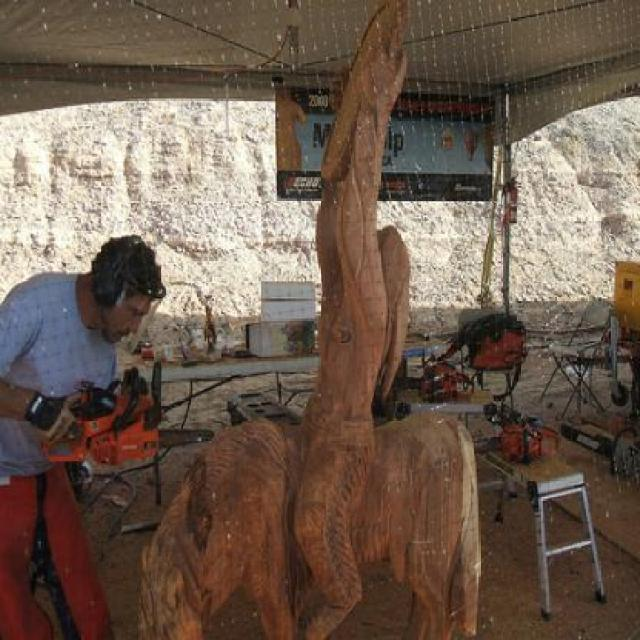Chainsaw: (41, 363, 214, 500), (561, 421, 640, 481)
